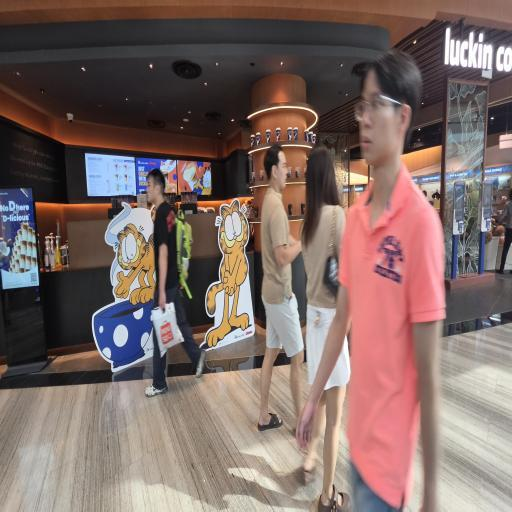person_left: (334, 59, 457, 512), (140, 162, 204, 376)
person_right: (296, 148, 349, 508), (254, 132, 300, 426)
